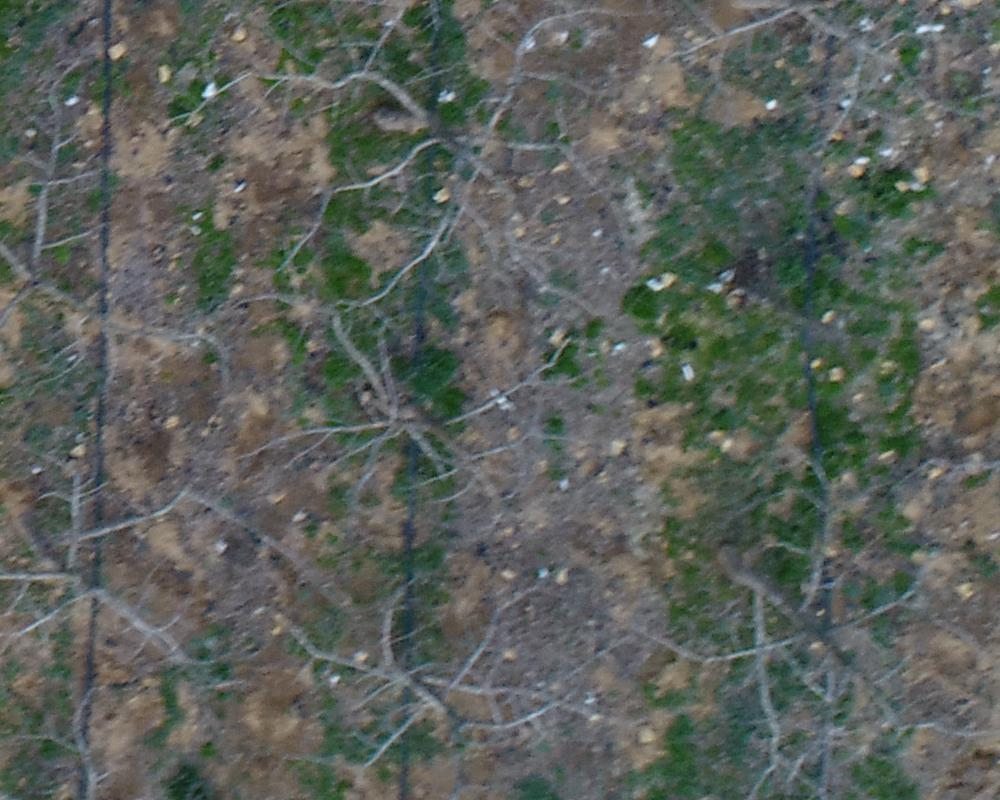apple: (184, 10, 655, 344), (638, 438, 990, 790), (264, 556, 669, 790), (231, 314, 602, 550), (10, 54, 210, 444), (10, 451, 234, 703), (685, 10, 963, 165)
